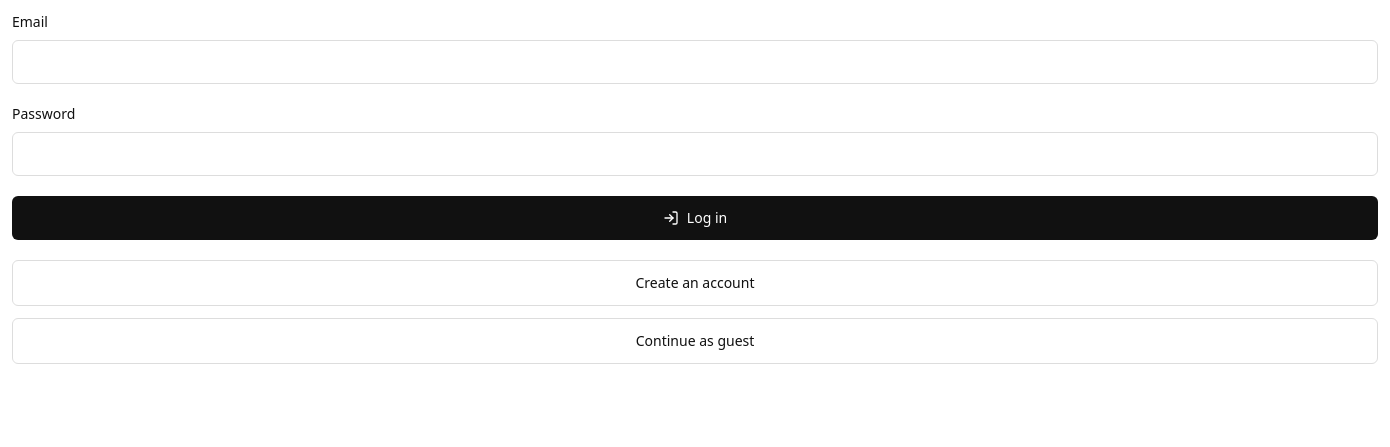
Test: LoginForm › shows a network error
The width and height of the screenshot is (1390, 447).
Type "alice@example.com" into the field labelled "Email" at (695, 62), box x1=12 y1=40 x2=1378 y2=84
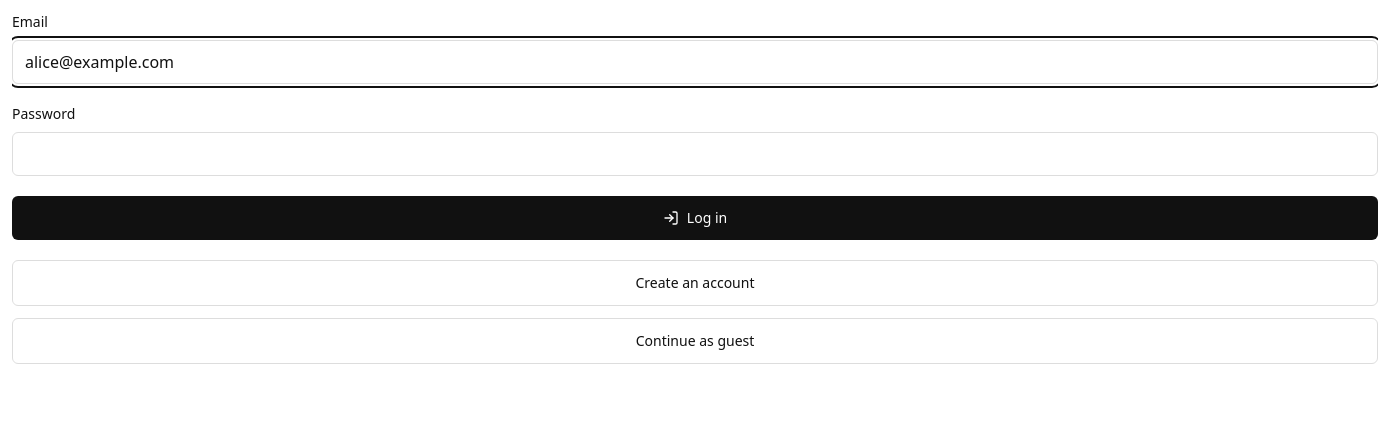
Type "correct horse" into the password field labelled "Password" at (695, 154), box x1=12 y1=132 x2=1378 y2=176
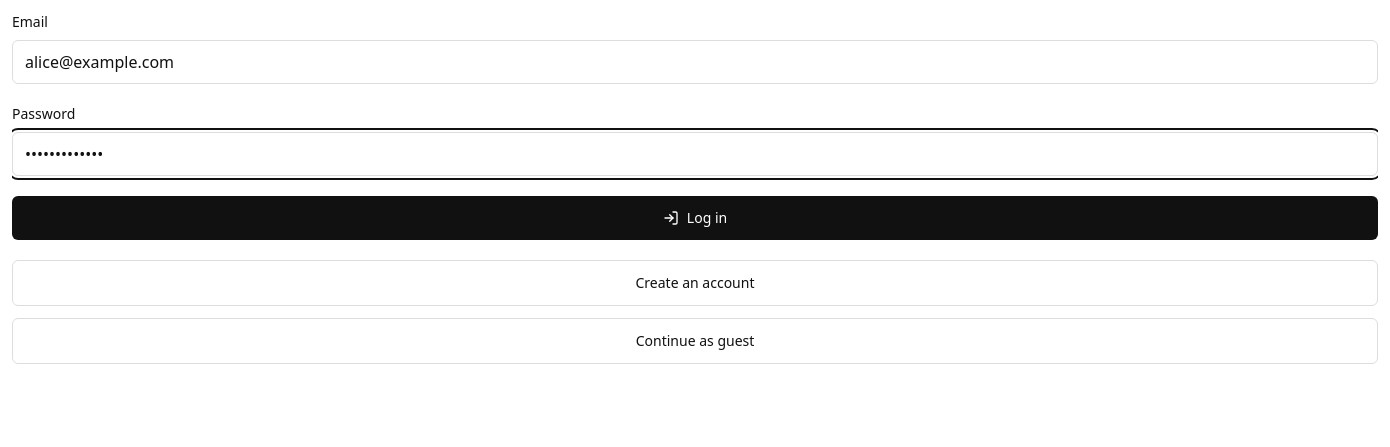
Click the button "Log in" at (695, 218), box x1=12 y1=196 x2=1378 y2=240
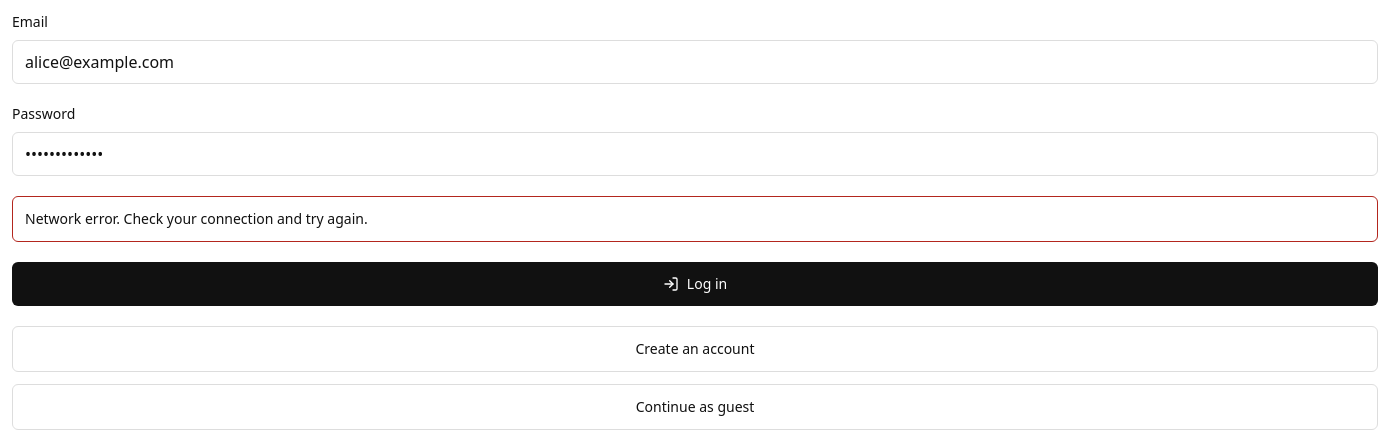
Now the message shows "Network error", box x1=25 y1=209 x2=368 y2=228
